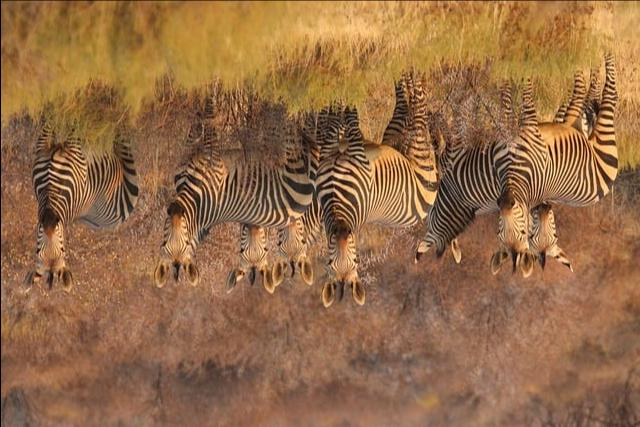Non_Gorille: (0, 73, 634, 368)
